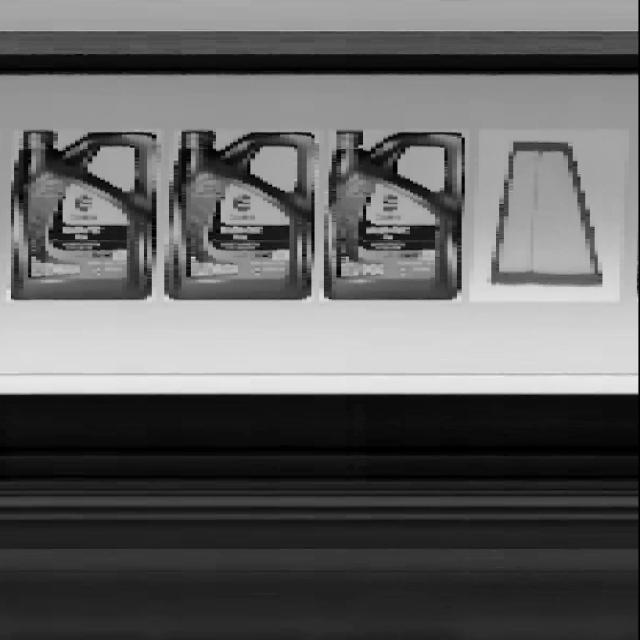air_filter: (490, 132, 622, 302)
motor_oil: (0, 130, 160, 304), (162, 131, 320, 302), (320, 130, 467, 306)
